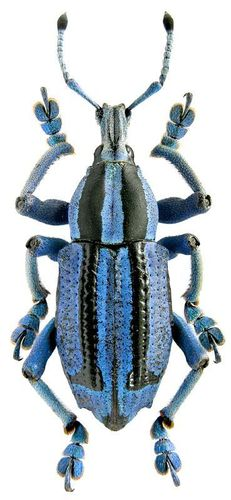Curculionidae: (10, 11, 227, 491)
